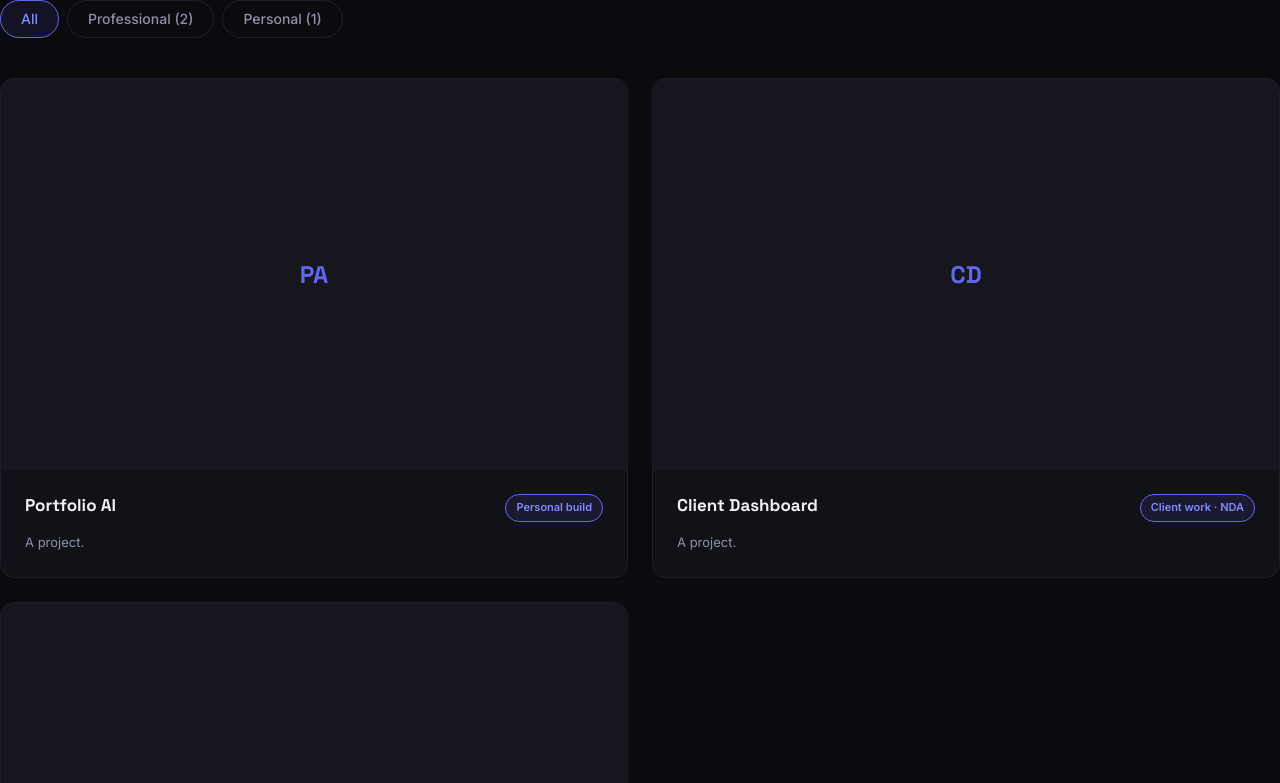
ProjectsGrid › filters to only personal projects
Click the button "personal (1)": click(283, 19) x1=222 y1=0 x2=343 y2=38
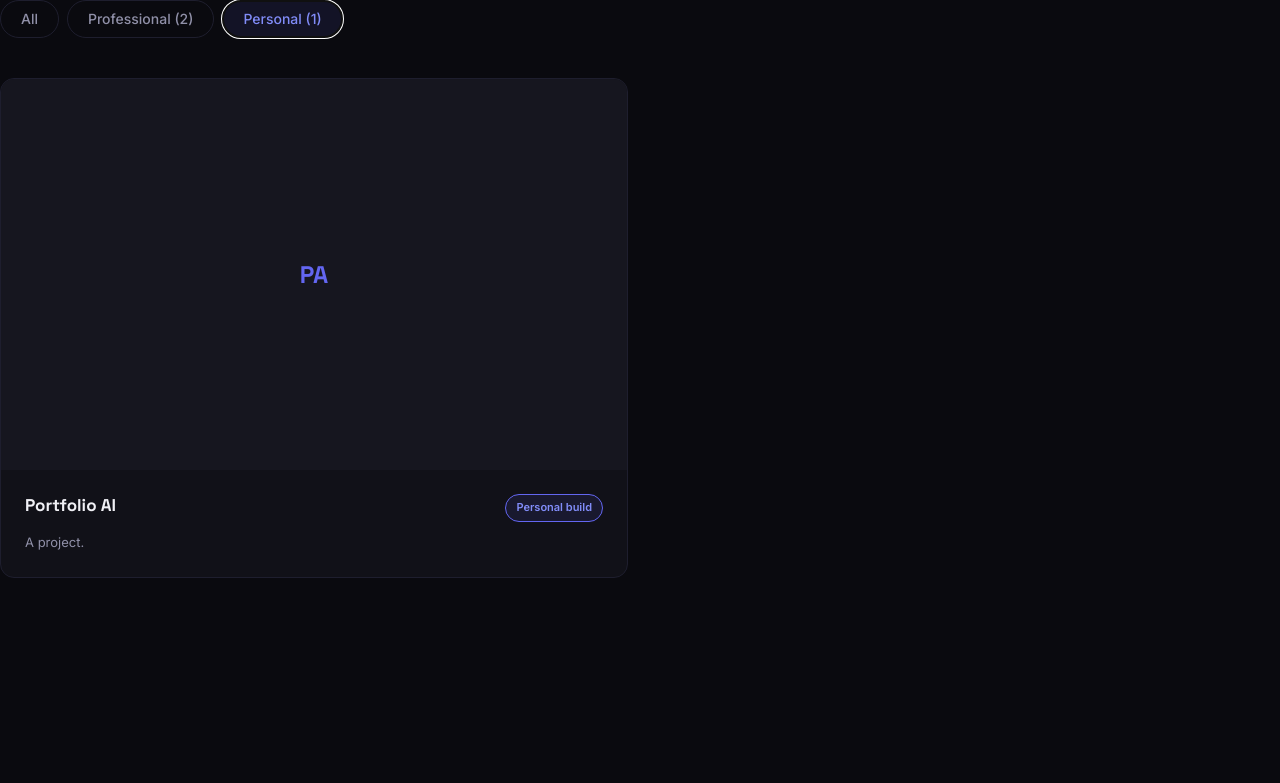
Expected: the heading "Portfolio AI" is shown, x1=25 y1=494 x2=116 y2=516
Result: the link "Client Dashboard" is gone
